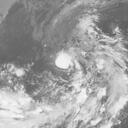cyclone: (53, 47, 107, 98)
